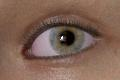eye: (51, 26, 83, 54)
